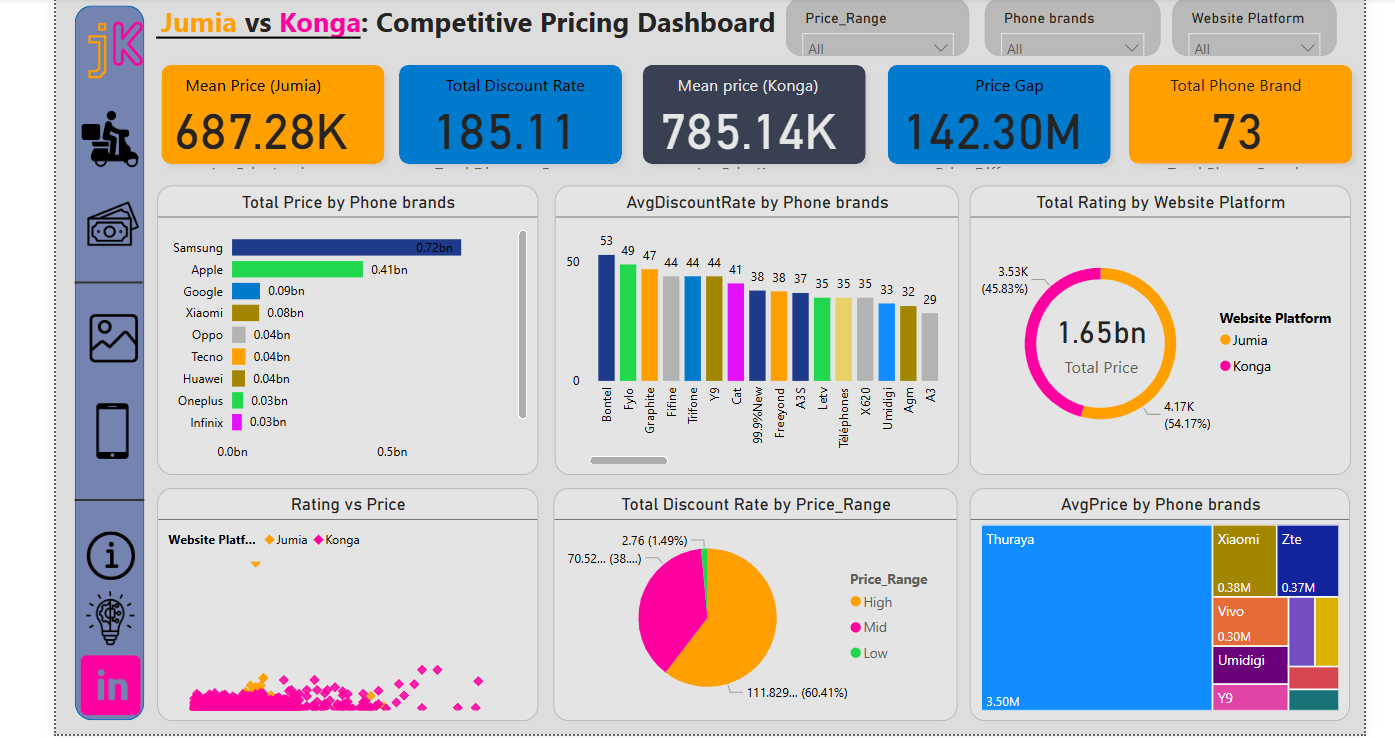

The dashboard page shown, as its layout file describes it:
{"tool":"powerbi","page":{"name":"OverView","canvas":[1280,720],"ordinal":0},"visuals":[{"type":"shape","box":[94.5,56.7,236.2,115.3],"z":0},{"type":"shape","box":[326,56.7,236.2,115.3],"z":1000},{"type":"shape","box":[565,56.7,236.2,115.3],"z":2000},{"type":"shape","box":[804.1,56.7,236.2,115.3],"z":3000},{"type":"shape","box":[1041.2,56.7,236.4,115],"z":4000},{"type":"shape","box":[18.9,7.6,68,699.2],"z":5000},{"type":"clusteredBarChart","fields":{"Category":["smartphones.Phone brands"],"Y":["smartphones.Total Price"]},"box":[98.8,183,372.4,283.4],"z":6000},{"type":"clusteredColumnChart","fields":{"Y":["smartphones.AvgDiscountRate"],"Category":["smartphones.Phone brands"]},"box":[487.4,183,395.1,283.4],"z":7000},{"type":"donutChart","fields":{"Y":["smartphones.Total Rating"],"Category":["smartphones.Website Platform"]},"box":[893.8,183,372.4,283.4],"z":8000},{"type":"scatterChart","title":"Rating vs Price","fields":{"X":["Sum(smartphones.Rating)"],"Y":["Sum(smartphones.Price)"],"Category":["smartphones.Phone Names"],"Series":["smartphones.Website Platform"]},"box":[98.8,479.3,372.4,228.3],"z":9000},{"type":"pieChart","fields":{"Y":["smartphones.Total Discount Rate"],"Category":["smartphones.Price_Range"]},"box":[487,479,395,228],"z":10000},{"type":"treemap","fields":{"Values":["smartphones.AvgPrice"],"Group":["smartphones.Phone brands"]},"box":[894,479,372,228],"z":11000},{"type":"image","box":[9.4,638.7,86.9,68],"z":12000},{"type":"image","box":[22.7,387.4,64.3,71.8],"z":13000},{"type":"image","box":[5.7,517.8,94.5,56.7],"z":14000},{"type":"image","box":[28.3,304.3,56.7,56.7],"z":15000},{"type":"image","box":[17,574.5,71.8,64.3],"z":16000},{"type":"shape","box":[18.9,222,66.1,111.5],"z":17000},{"type":"image","box":[17,190.9,77.5,60.5],"z":18000},{"type":"image","box":[7.6,103.9,92.6,68],"z":19000},{"type":"shape","box":[18.9,435.1,68,111.5],"z":20000},{"type":"image","box":[0,0,81.3,103.9],"z":21000},{"type":"image","box":[43.5,0,52.9,88.8],"z":22000},{"type":"textbox","box":[98.3,0,757.8,52.9],"z":23000},{"type":"card","fields":{"Values":["smartphones.AvgPriceKonga"]},"box":[564.1,100.2,226.8,71.8],"z":24000},{"type":"textbox","box":[100.2,68,185.2,115.3],"z":25000},{"type":"card","fields":{"Values":["smartphones.AvgPriceJumia"]},"box":[86.9,100.2,226.8,71.8],"z":26000},{"type":"textbox","box":[1041.3,68,224.9,37.8],"z":27000},{"type":"textbox","box":[530.1,68,294.8,39.7],"z":28000},{"type":"card","fields":{"Values":["smartphones.Total Discount Rate"]},"box":[325.5,100.2,226.8,71.8],"z":29000},{"type":"textbox","box":[326.9,68,245.7,68],"z":30000},{"type":"card","fields":{"Values":["smartphones.Price Difference"]},"box":[802.7,100.2,226.8,71.8],"z":31000},{"type":"textbox","box":[782.8,68,300.5,37.8],"z":32000},{"type":"card","fields":{"Values":["smartphones.Total Phone Brands"]},"box":[1041.3,100.2,226.8,71.8],"z":33000},{"type":"card","fields":{"Values":["smartphones.Total Price"]},"box":[954.3,285.4,138,102],"z":34000},{"type":"slicer","fields":{"Values":["smartphones.Price_Range"]},"box":[714.3,0,179.5,56.7],"z":35000},{"type":"slicer","fields":{"Values":["smartphones.Phone brands"]},"box":[909,0,172,56.7],"z":36000},{"type":"slicer","fields":{"Values":["smartphones.Website Platform"]},"box":[1092.3,0,160.6,56.7],"z":37000},{"type":"shape","box":[98.3,20.8,200.3,35.9],"z":38000}]}

Visuals, with their boxes on the page's 1280x720 design canvas (x1, y1, x2, y2). These are canvas units, not pixel positions in the 1395x738 screenshot, which may show the page scaled, cropped or inside an application window:
shape: 94 57 331 172
shape: 326 57 562 172
shape: 565 57 801 172
shape: 804 57 1040 172
shape: 1041 57 1278 172
shape: 19 8 87 707
clusteredBarChart - smartphones.Phone brands x smartphones.Total Price: 99 183 471 466
clusteredColumnChart - smartphones.AvgDiscountRate x smartphones.Phone brands: 487 183 882 466
donutChart - smartphones.Total Rating x smartphones.Website Platform: 894 183 1266 466
"Rating vs Price" scatterChart: 99 479 471 708
pieChart - smartphones.Total Discount Rate x smartphones.Price_Range: 487 479 882 707
treemap - smartphones.AvgPrice x smartphones.Phone brands: 894 479 1266 707
image: 9 639 96 707
image: 23 387 87 459
image: 6 518 100 574
image: 28 304 85 361
image: 17 574 89 639
shape: 19 222 85 334
image: 17 191 94 251
image: 8 104 100 172
shape: 19 435 87 547
image: 0 0 81 104
image: 44 0 96 89
textbox: 98 0 856 53
card - smartphones.AvgPriceKonga: 564 100 791 172
textbox: 100 68 285 183
card - smartphones.AvgPriceJumia: 87 100 314 172
textbox: 1041 68 1266 106
textbox: 530 68 825 108
card - smartphones.Total Discount Rate: 326 100 552 172
textbox: 327 68 573 136
card - smartphones.Price Difference: 803 100 1030 172
textbox: 783 68 1083 106
card - smartphones.Total Phone Brands: 1041 100 1268 172
card - smartphones.Total Price: 954 285 1092 387
slicer - smartphones.Price_Range: 714 0 894 57
slicer - smartphones.Phone brands: 909 0 1081 57
slicer - smartphones.Website Platform: 1092 0 1253 57
shape: 98 21 299 57
